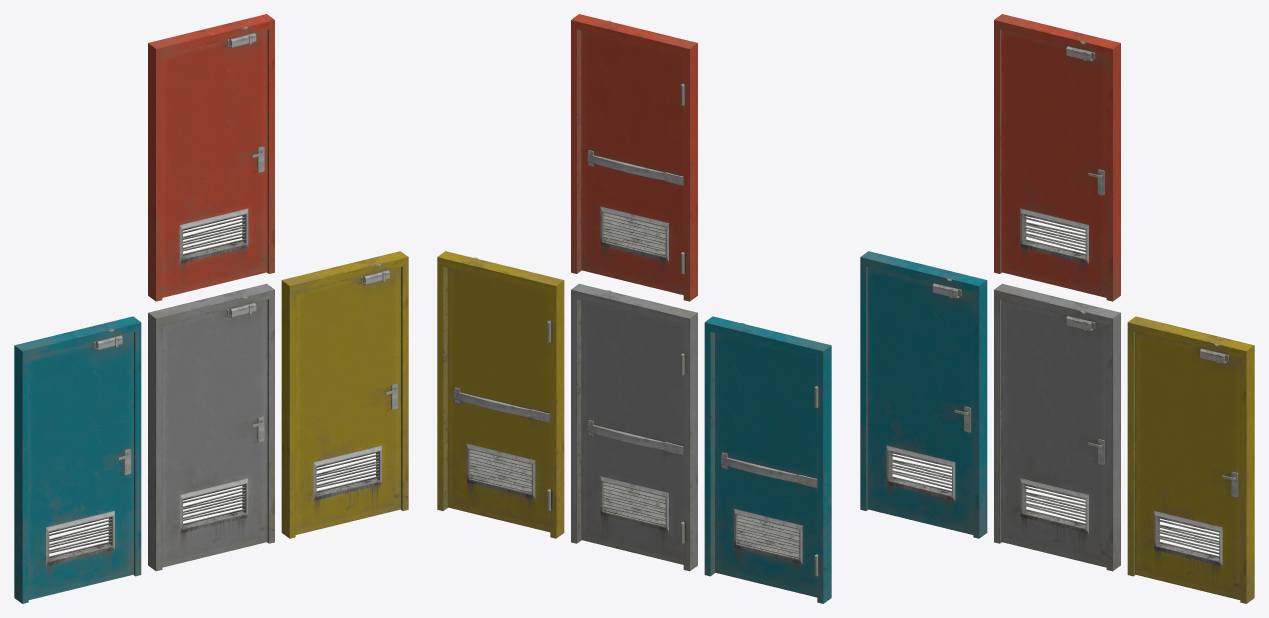
File: doors_colour.glb
The picture shows the model from 3 angles, left to right: view 1: azimuth 30°, elevation 25°; view 2: azimuth 150°, elevation 25°; view 3: azimuth 330°, elevation 25°; orthographic projection.
Parts seen in each view (by area): view 1: SM_Door_F_Yellow.mo, SM_Door_F_Grey.mo, SM_Door_F_Red.mo, SM_Door_F_Blue.mo, SM_Frame_Metal_CBlue.mo, SM_Frame_Metal_CYellow.mo, SM_Frame_Metal_CGrey.mo, SM_Frame_Metal_CRed.mo; view 2: SM_Door_F_Yellow.mo, SM_Door_F_Grey.mo, SM_Door_F_Red.mo, SM_Door_F_Blue.mo, SM_Frame_Metal_CYellow.mo, SM_Frame_Metal_CBlue.mo, SM_Frame_Metal_CRed.mo, SM_Frame_Metal_CGrey.mo; view 3: SM_Door_F_Blue.mo, SM_Door_F_Grey.mo, SM_Door_F_Yellow.mo, SM_Door_F_Red.mo, SM_Frame_Metal_CYellow.mo, SM_Frame_Metal_CBlue.mo, SM_Frame_Metal_CGrey.mo, SM_Frame_Metal_CRed.mo.
Part boxes in pixels (x1,y1,x2,y2): SM_Door_F_Yellow.mo: (295,267,400,534); SM_Door_F_Grey.mo: (162,299,267,567); SM_Door_F_Red.mo: (162,30,267,297); SM_Door_F_Blue.mo: (28,332,133,599); SM_Frame_Metal_CBlue.mo: (14,316,141,603); SM_Frame_Metal_CYellow.mo: (281,251,408,538); SM_Frame_Metal_CGrey.mo: (148,283,274,571); SM_Frame_Metal_CRed.mo: (148,14,274,301); SM_Door_F_Yellow.mo: (447,268,550,532); SM_Door_F_Grey.mo: (581,300,683,564); SM_Door_F_Red.mo: (581,30,683,294); SM_Door_F_Blue.mo: (715,333,817,597); SM_Frame_Metal_CYellow.mo: (437,251,564,538); SM_Frame_Metal_CBlue.mo: (704,316,831,603); SM_Frame_Metal_CRed.mo: (571,14,697,301); SM_Frame_Metal_CGrey.mo: (571,283,697,571); SM_Door_F_Blue.mo: (867,267,973,534); SM_Door_F_Grey.mo: (1001,299,1106,567); SM_Door_F_Yellow.mo: (1135,332,1240,599); SM_Door_F_Red.mo: (1001,30,1106,297); SM_Frame_Metal_CYellow.mo: (1127,316,1254,603); SM_Frame_Metal_CBlue.mo: (860,251,987,538); SM_Frame_Metal_CGrey.mo: (994,283,1120,571); SM_Frame_Metal_CRed.mo: (994,14,1120,301).
Bounding box in the file's own units: 4.05 × 5.23 × 0.223.
Materials: 8 (8 with a texture image).
